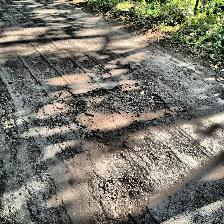pothole: (56, 84, 172, 156), (100, 177, 152, 223)
